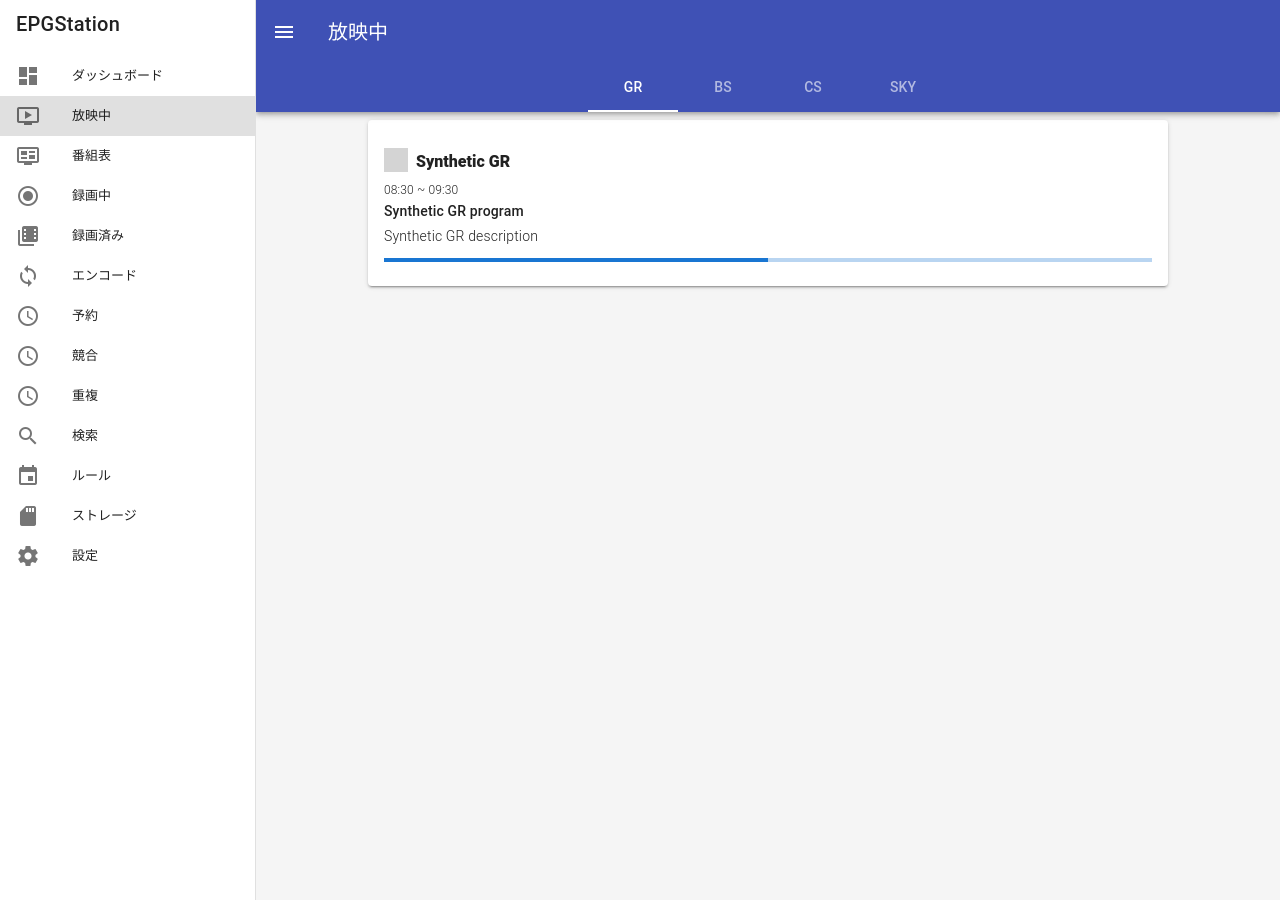
Scenario: On Air card and ProgramDialog actions › [AC 3.8] blocks unsupported M2TS-LL playback before navigating
Click the element with test id "onair-card-body-10" at (421, 190), box [384,180,1152,262]
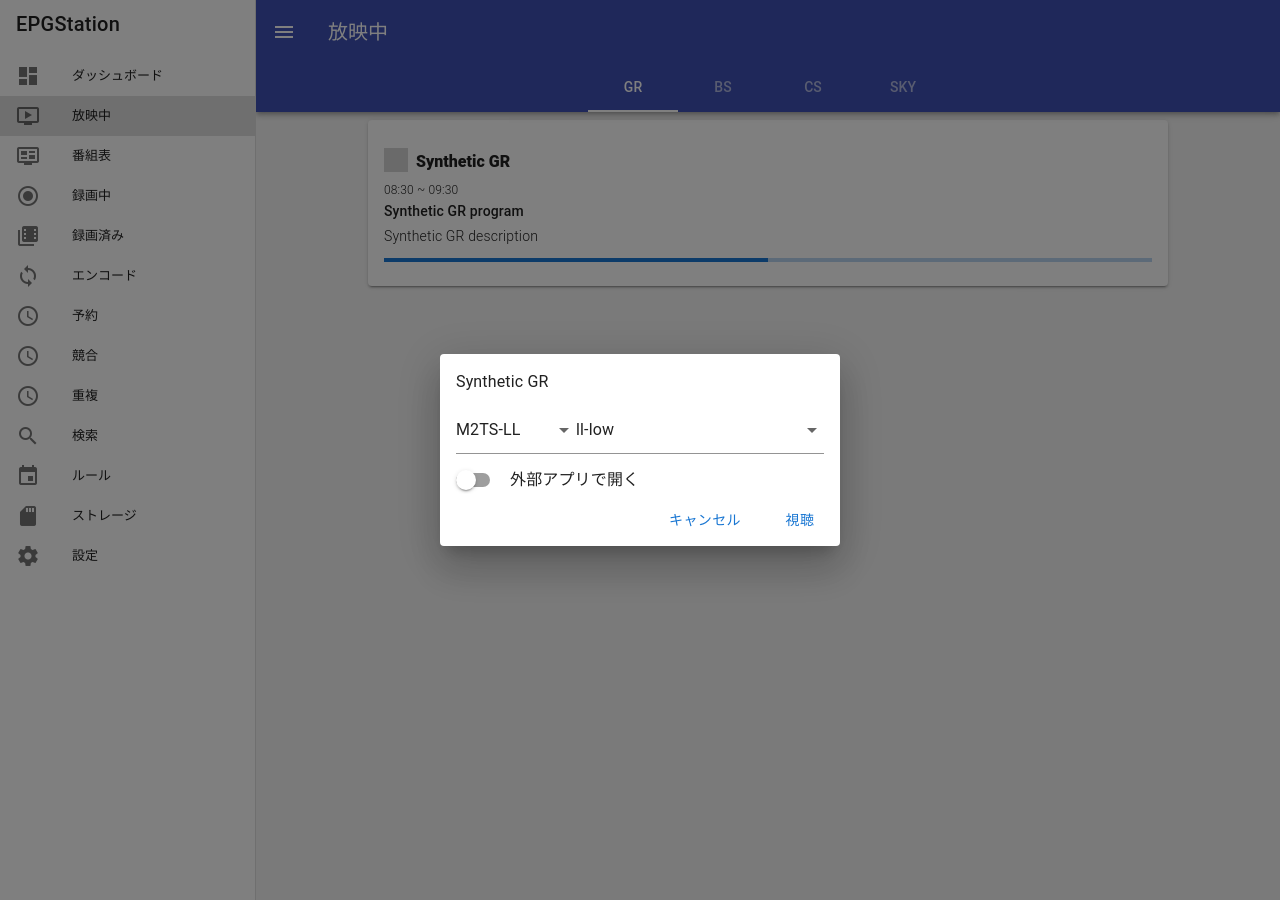
Click the button "視聴" at (800, 520), box [768,502,832,538]
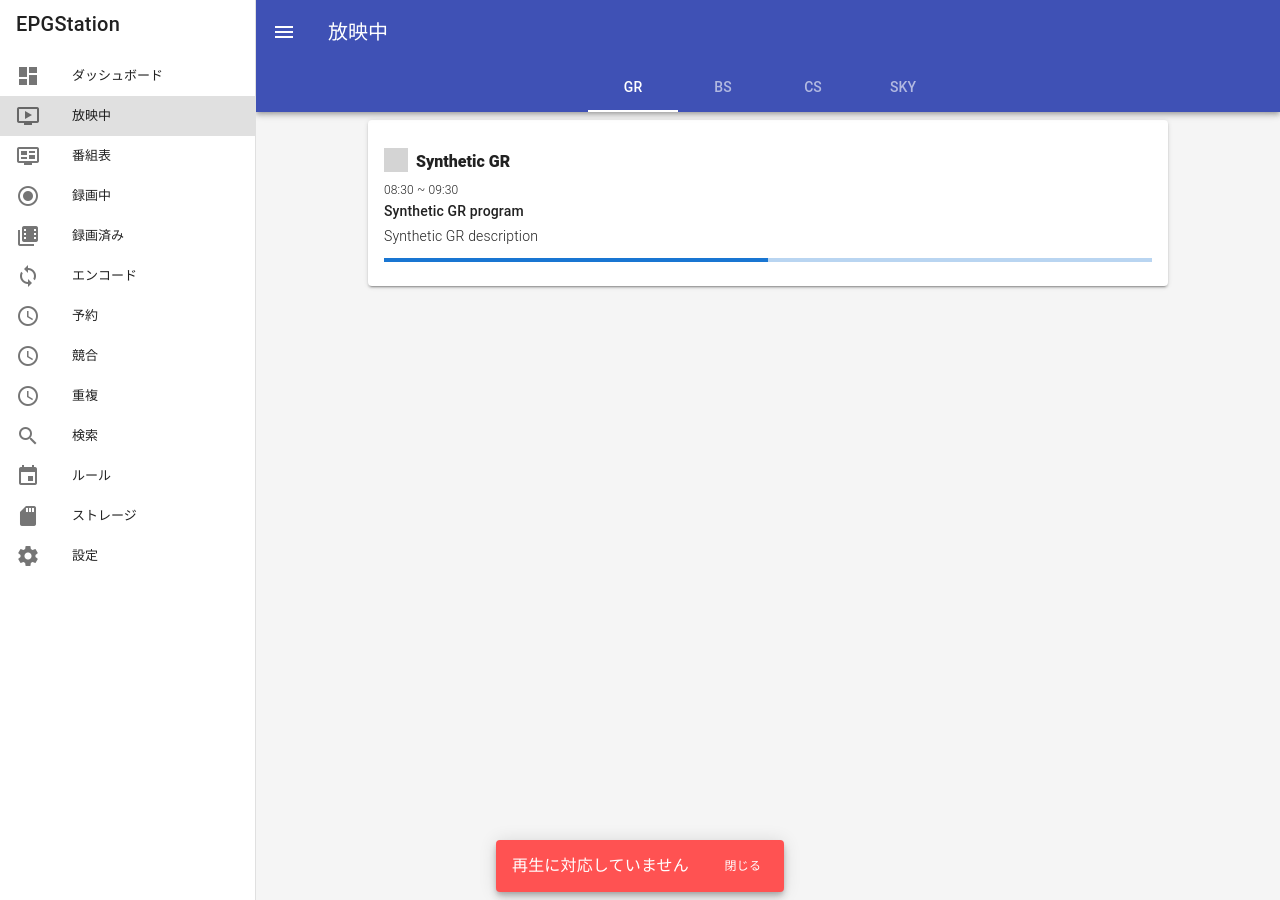
Check: the message shows "再生に対応していません", box [512,856,689,875]
